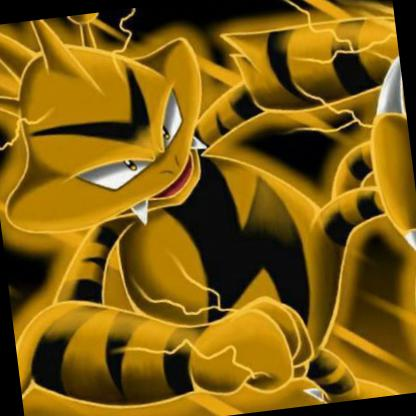Electabuzz: (1, 6, 416, 416)
